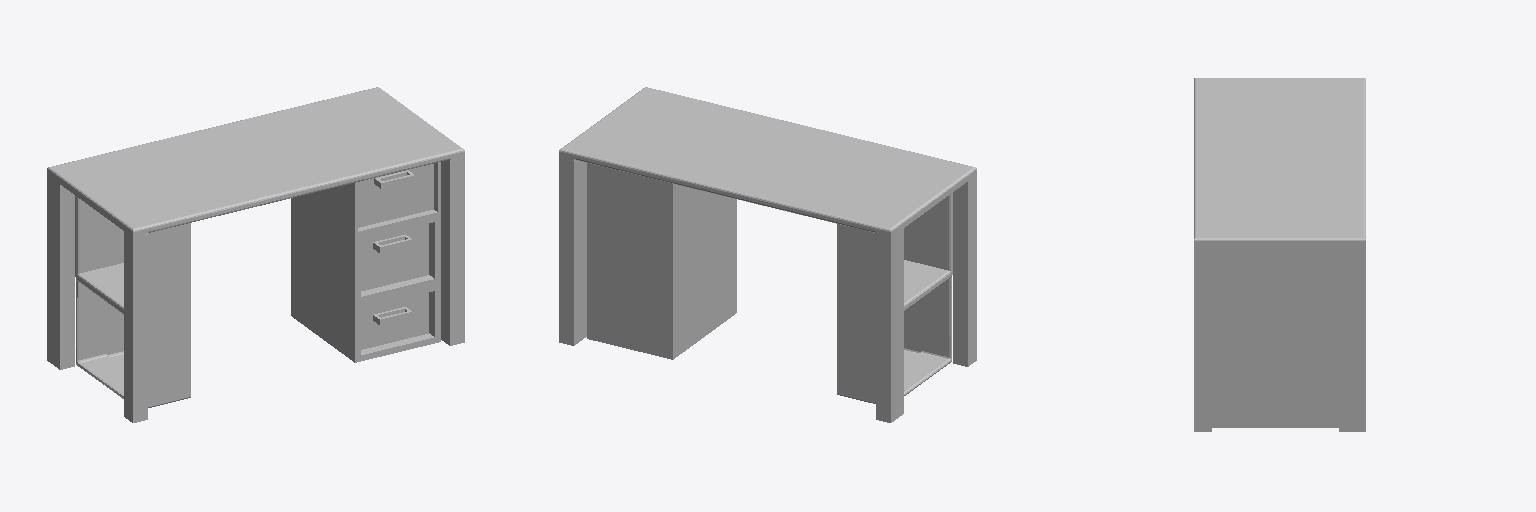
Rendered from comp table.obj.
The picture shows the model from 3 angles: view 1: azimuth 30°, elevation 25°; view 2: azimuth 150°, elevation 25°; view 3: azimuth 270°, elevation 25°; orthographic projection.
Parts seen in each view (by area): view 1: pCube1; view 2: pCube1; view 3: pCube1.
Boxes of the visible parts, <box> form: pCube1: <box>47,87,464,422</box>; pCube1: <box>559,87,976,422</box>; pCube1: <box>1194,78,1365,431</box>.
Size of the model in its own units: 4.9 by 2.77 by 2.21.